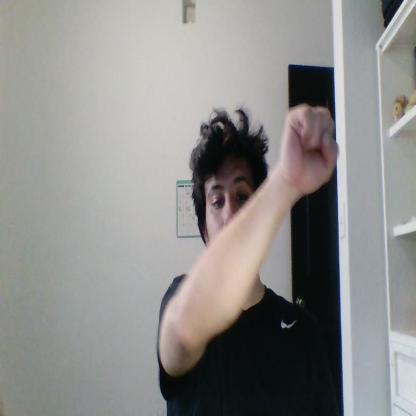S: (282, 104, 340, 191)
